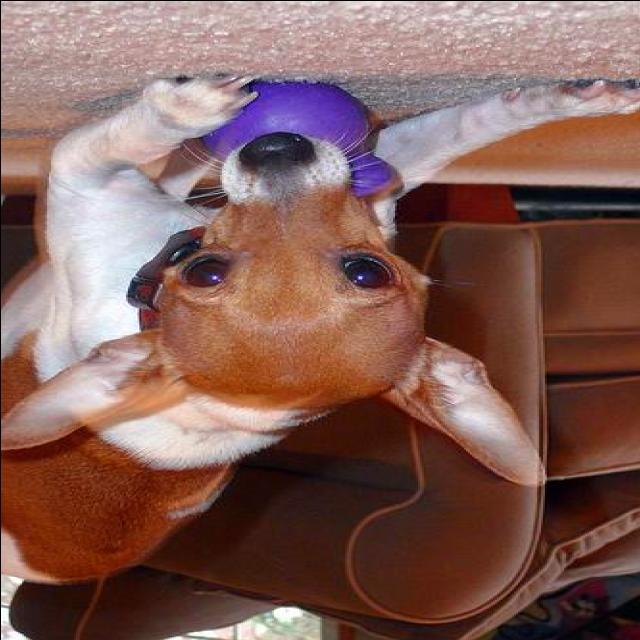toy_terrier: (4, 74, 630, 586)
